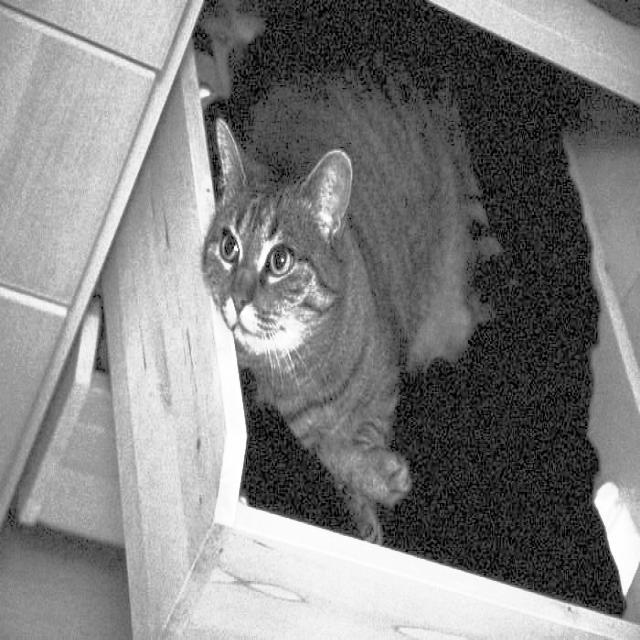Cat: (216, 139, 446, 512)
